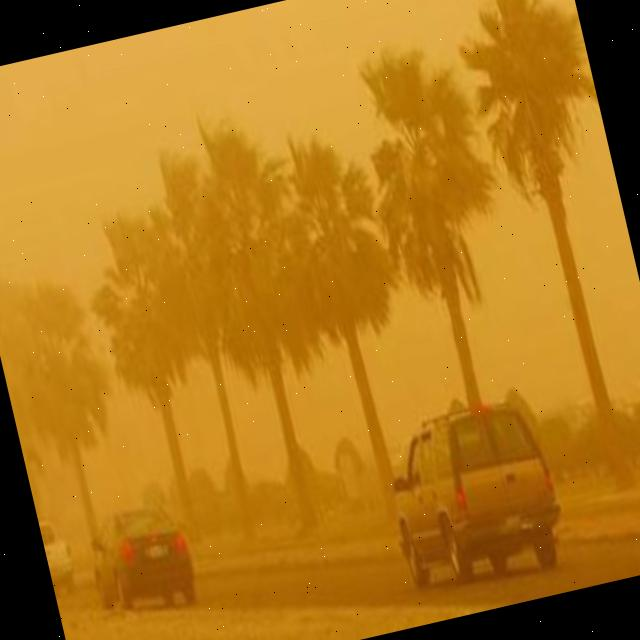car: (368, 388, 575, 600), (80, 498, 202, 624), (38, 514, 78, 596)
